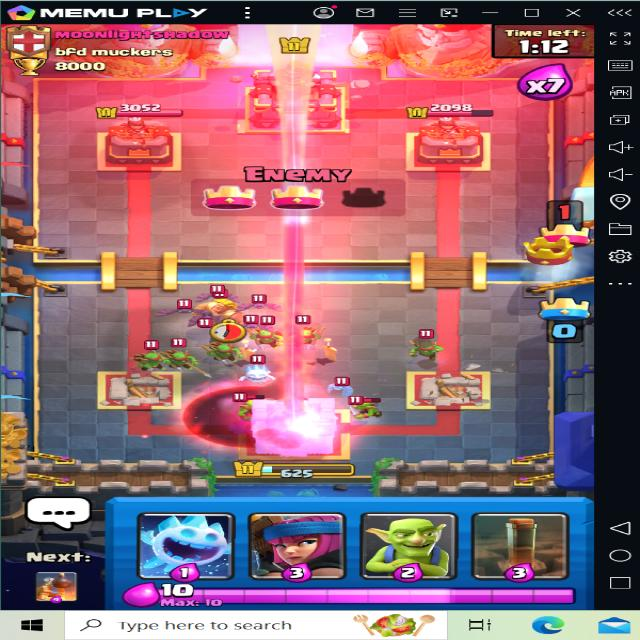bats: (157, 301, 206, 320), (242, 292, 281, 314)
goblin: (228, 395, 265, 421), (351, 394, 380, 421)
golden-knight: (189, 285, 270, 336)
ice-spirit: (238, 361, 279, 387)
spear-goblin: (410, 333, 455, 364), (292, 320, 332, 348), (161, 339, 197, 369), (134, 346, 167, 373), (210, 339, 244, 362), (253, 326, 280, 348)
void: (186, 382, 311, 443)
